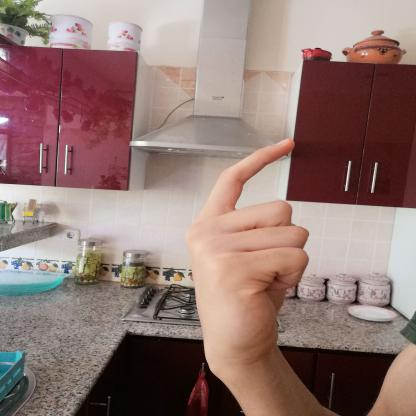RAA: (175, 127, 319, 375)
